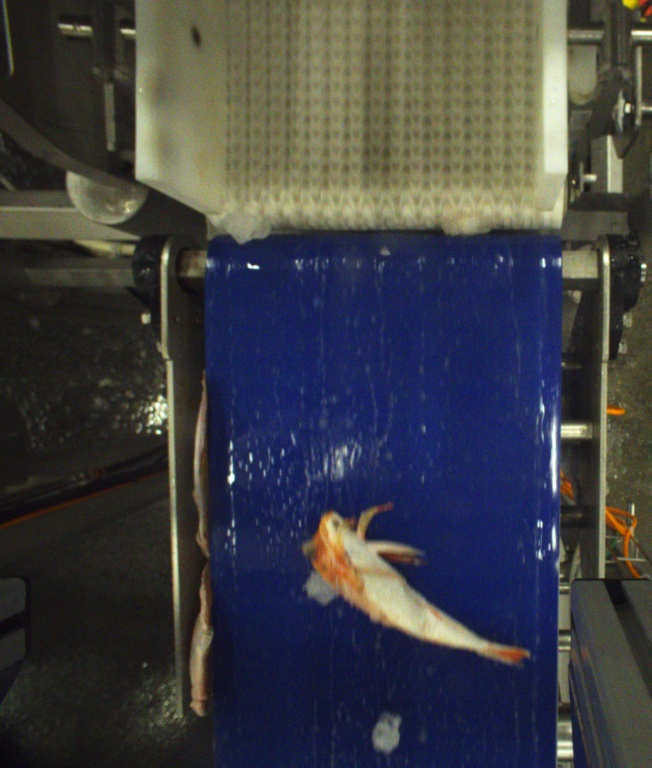GUU: (306, 499, 529, 667)
